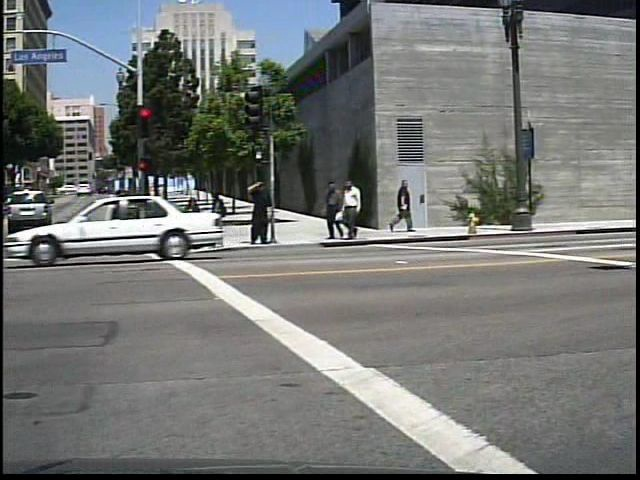person: (391, 173, 423, 237), (252, 173, 277, 248)
